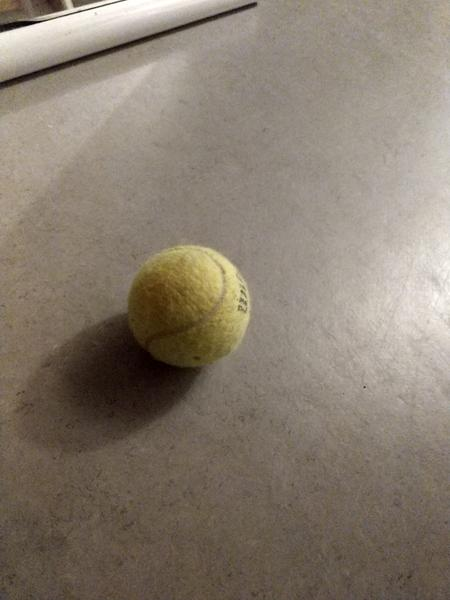Tennisball: (124, 240, 256, 376)
